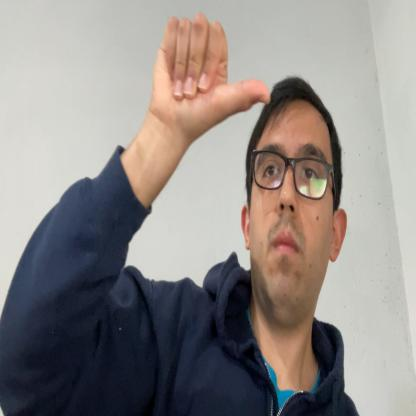A: (150, 9, 272, 135)
